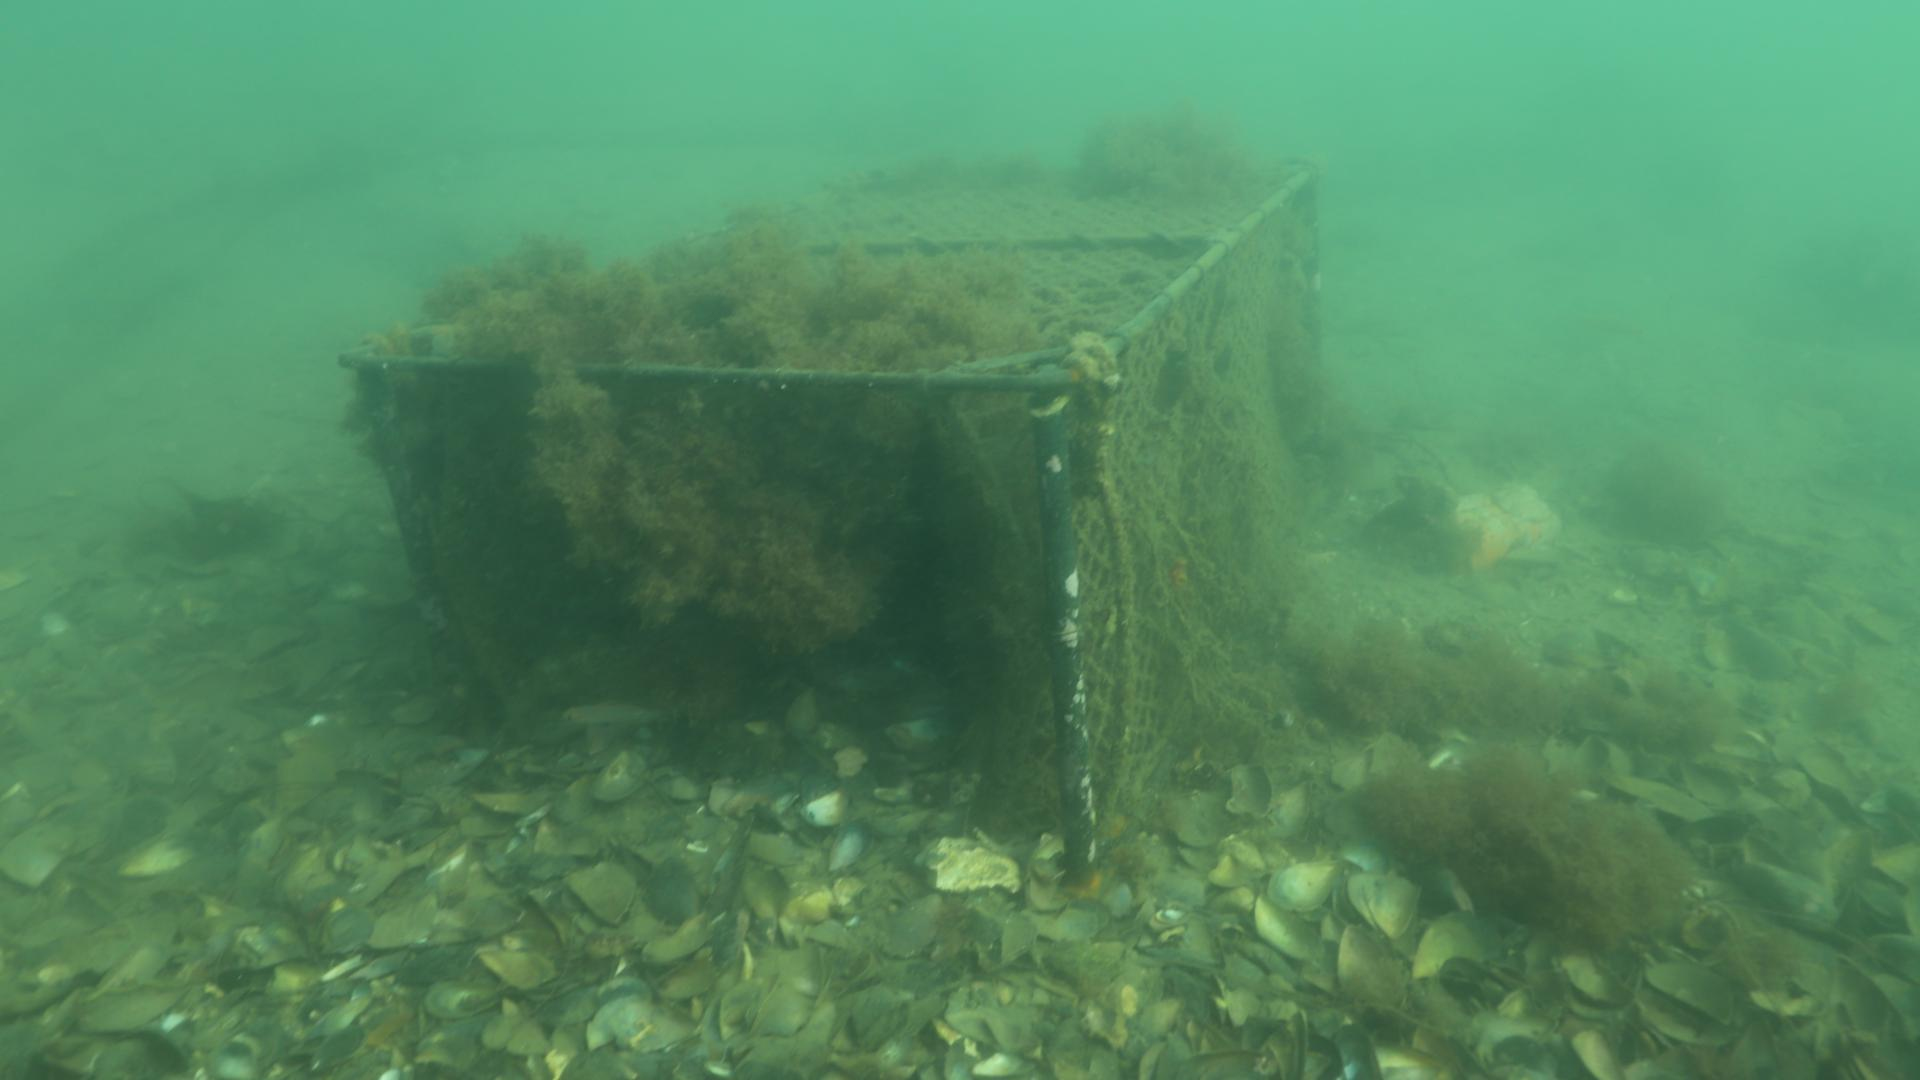rectangular fish trap: (338, 158, 1327, 907)
